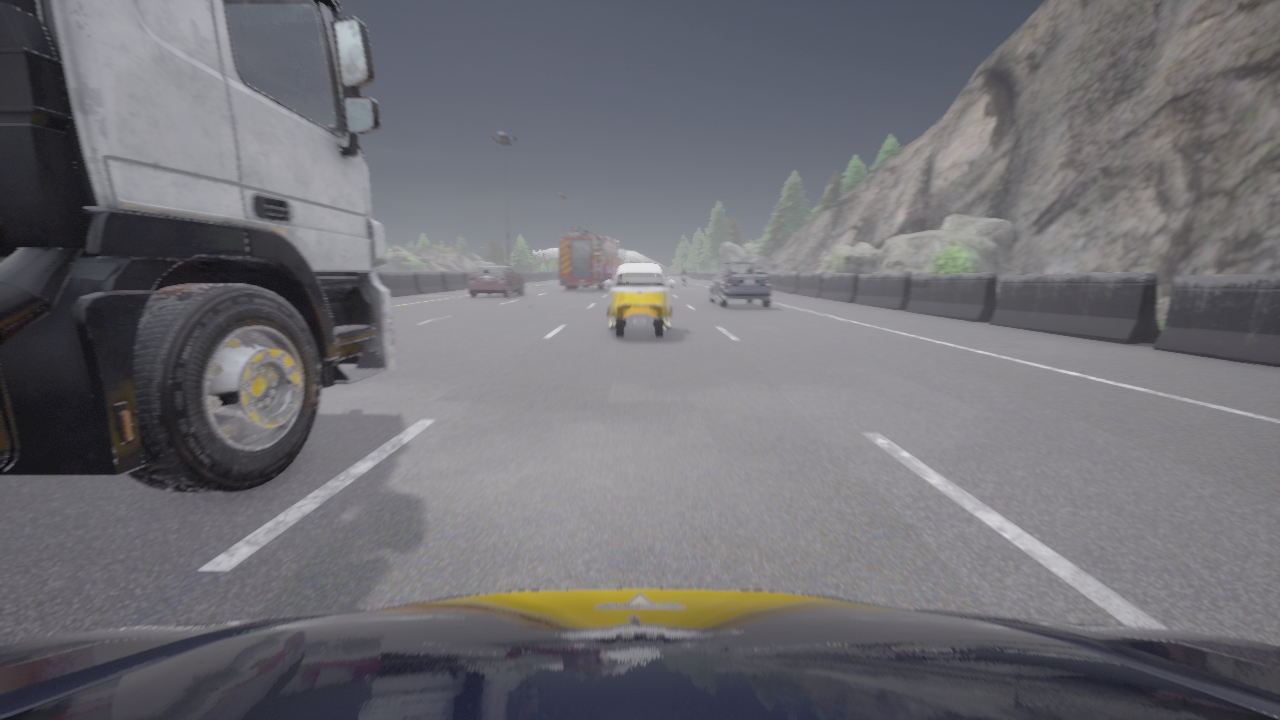cyclist: (0, 588, 1279, 719), (605, 264, 674, 338), (559, 228, 624, 289), (709, 261, 772, 307), (468, 266, 523, 297), (679, 273, 686, 286)
